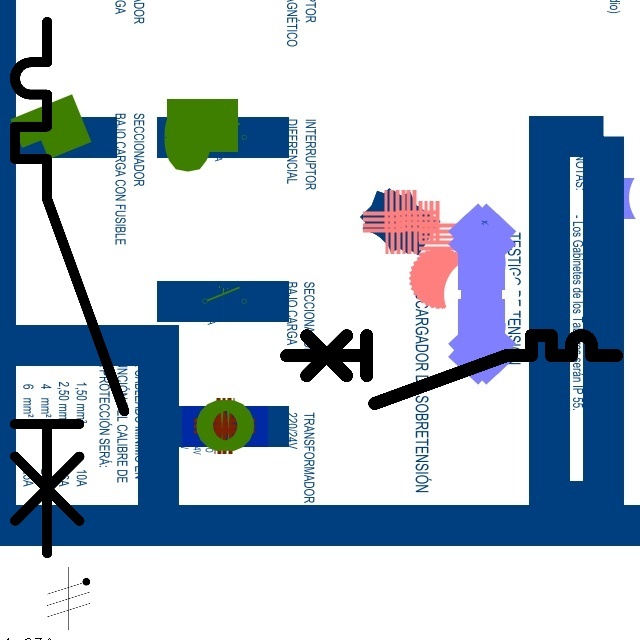interruptor_termomagnetico: (1, 8, 138, 567), (278, 327, 625, 412)
